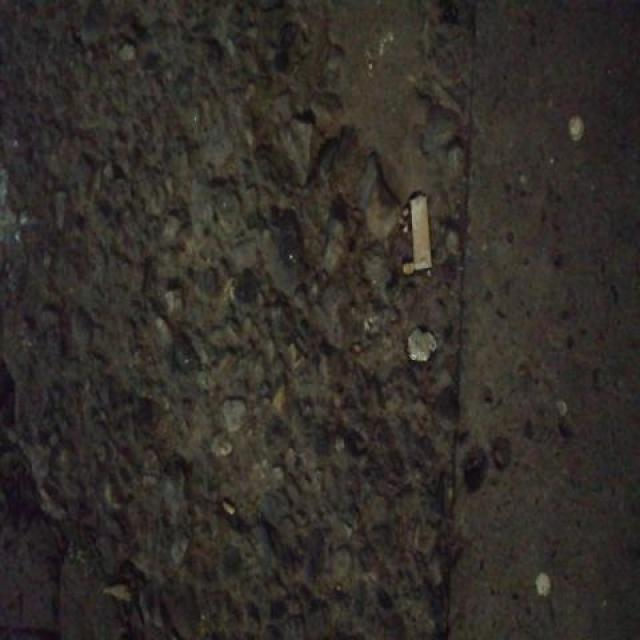non-organic waste: (406, 190, 438, 275)
